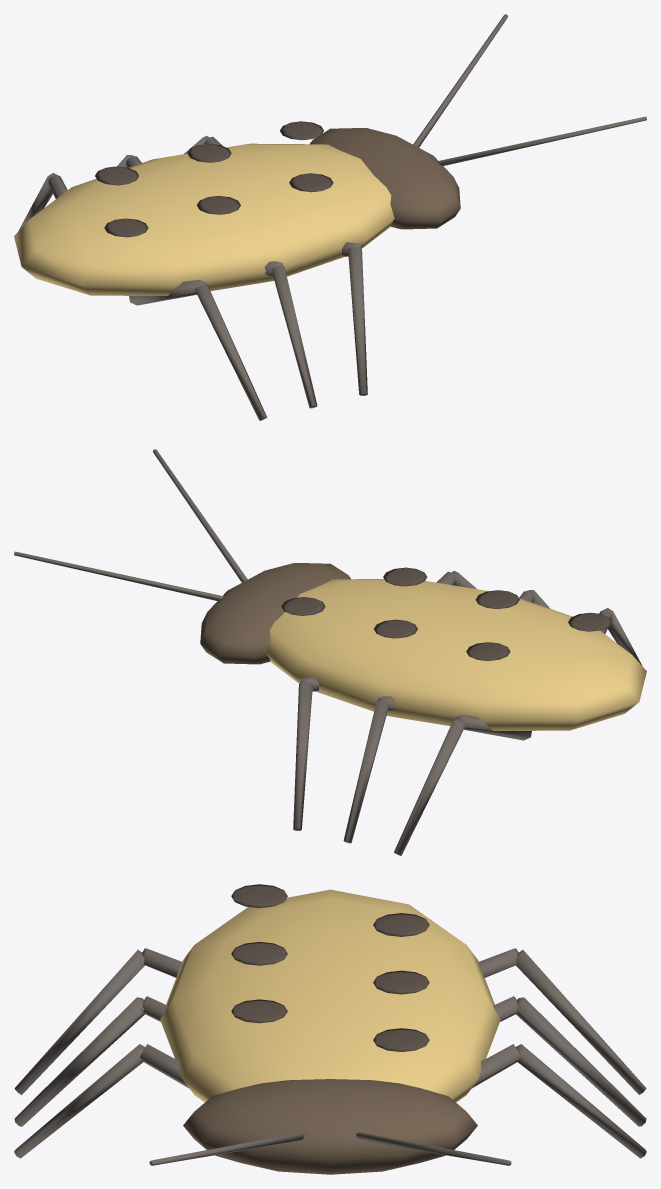
Rendered from six-spotted-cockroach.glb.
The picture shows the model from 3 angles, top to bottom: view 1: azimuth 30°, elevation 25°; view 2: azimuth 150°, elevation 25°; view 3: azimuth 270°, elevation 25°; orthographic projection. The views are drawn at different scales.
Parts seen in each view (by area): view 1: e; view 2: e; view 3: e.
Part boxes in pixels (left/top/right/bottom): e: left=14, top=14, right=646, bottom=420; e: left=14, top=449, right=646, bottom=855; e: left=14, top=884, right=646, bottom=1174.
Size of the model in its own units: 0.5772 by 0.1596 by 0.4462.
